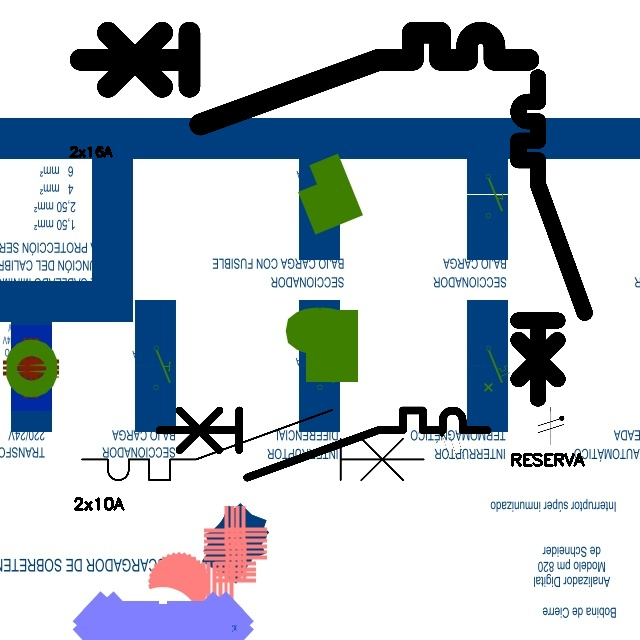interruptor_termomagnetico: (69, 21, 540, 136), (73, 401, 432, 489), (151, 402, 496, 486), (510, 69, 592, 407)
